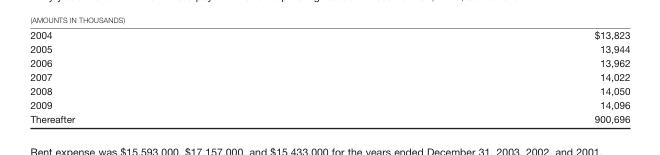table: (29, 29, 629, 124)
table column: (29, 29, 333, 124), (333, 29, 629, 124)
table row: (29, 41, 629, 55), (29, 55, 629, 69), (29, 69, 629, 83), (29, 83, 629, 97), (29, 97, 629, 111), (29, 111, 629, 124), (29, 29, 629, 41)
